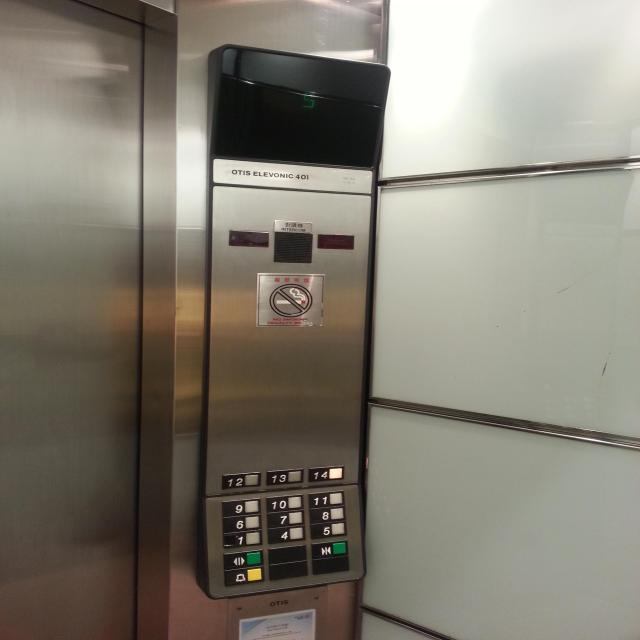1: (220, 528, 262, 549)
10: (264, 493, 304, 514)
11: (307, 489, 346, 508)
12: (220, 470, 261, 490)
13: (265, 466, 303, 487)
14: (307, 464, 344, 483)
4: (266, 524, 306, 544)
5: (308, 520, 348, 540)
6: (220, 512, 261, 532)
7: (265, 508, 305, 529)
8: (307, 505, 346, 524)
9: (220, 497, 262, 518)
alarm: (223, 565, 263, 587)
close: (310, 539, 348, 559)
led: (202, 40, 395, 174)
open: (222, 548, 264, 572)
